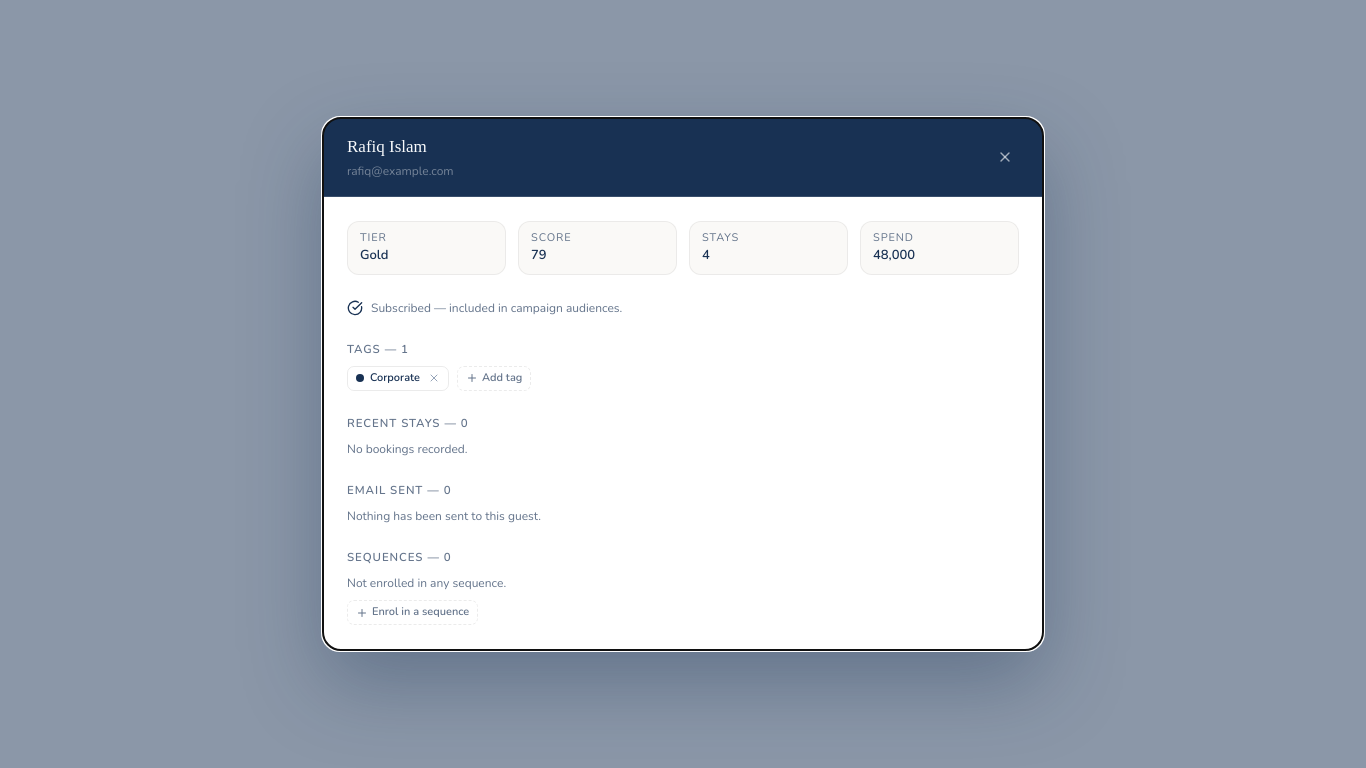
it: putting a tag on a guest › offers only tags the guest does not already have
Expected: the heading "Rafiq Islam" is shown, x1=347 y1=137 x2=427 y2=156
What coordinates should you click on to do the following:
click the button "Add tag"
I would click on:
 (494, 378)
Its box is x1=457 y1=366 x2=531 y2=391.
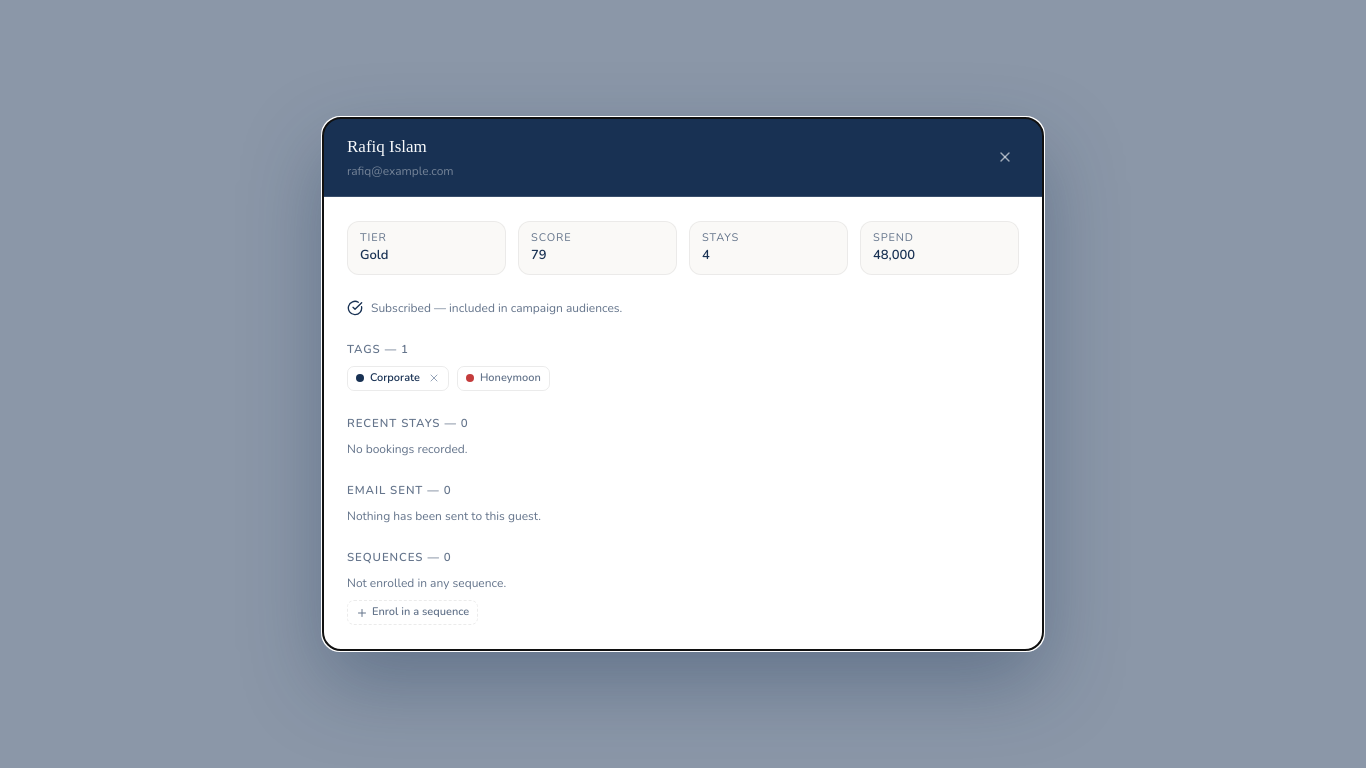
Expected: the text "Corporate" is shown once, x1=347 y1=366 x2=449 y2=391
Expected: the button "Honeymoon" is shown, x1=457 y1=366 x2=550 y2=391
